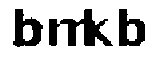b: (116, 8, 150, 49), (11, 6, 43, 48)
k: (87, 4, 112, 47)
m: (46, 17, 89, 51)
